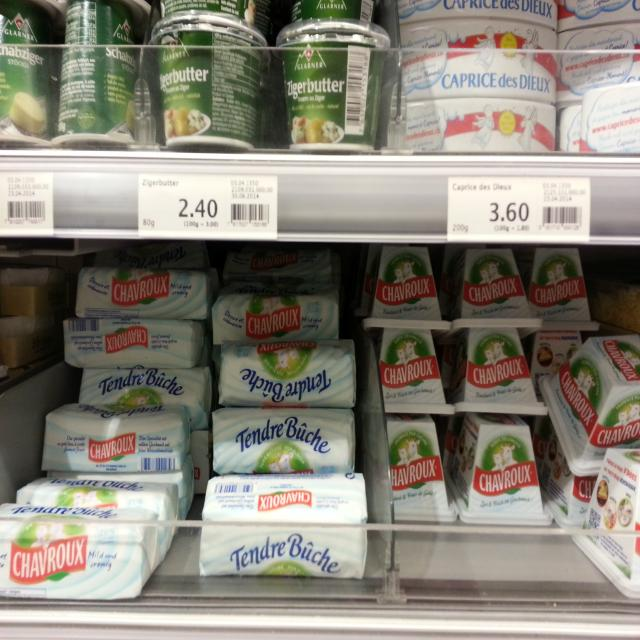Cheese: (197, 472, 368, 578), (144, 8, 266, 151), (274, 18, 390, 154), (537, 332, 640, 478), (0, 502, 158, 596), (53, 0, 148, 141), (398, 18, 554, 100), (568, 446, 640, 597), (459, 416, 555, 526), (44, 403, 190, 473), (212, 407, 357, 475), (218, 338, 357, 407), (0, 0, 62, 150), (402, 99, 556, 159), (372, 420, 455, 524), (452, 328, 550, 416), (80, 365, 212, 427), (451, 246, 546, 329), (362, 245, 450, 332), (370, 328, 454, 415), (77, 267, 212, 320), (212, 293, 338, 344), (63, 319, 203, 364), (527, 246, 598, 334), (559, 24, 640, 100), (581, 81, 640, 152)
